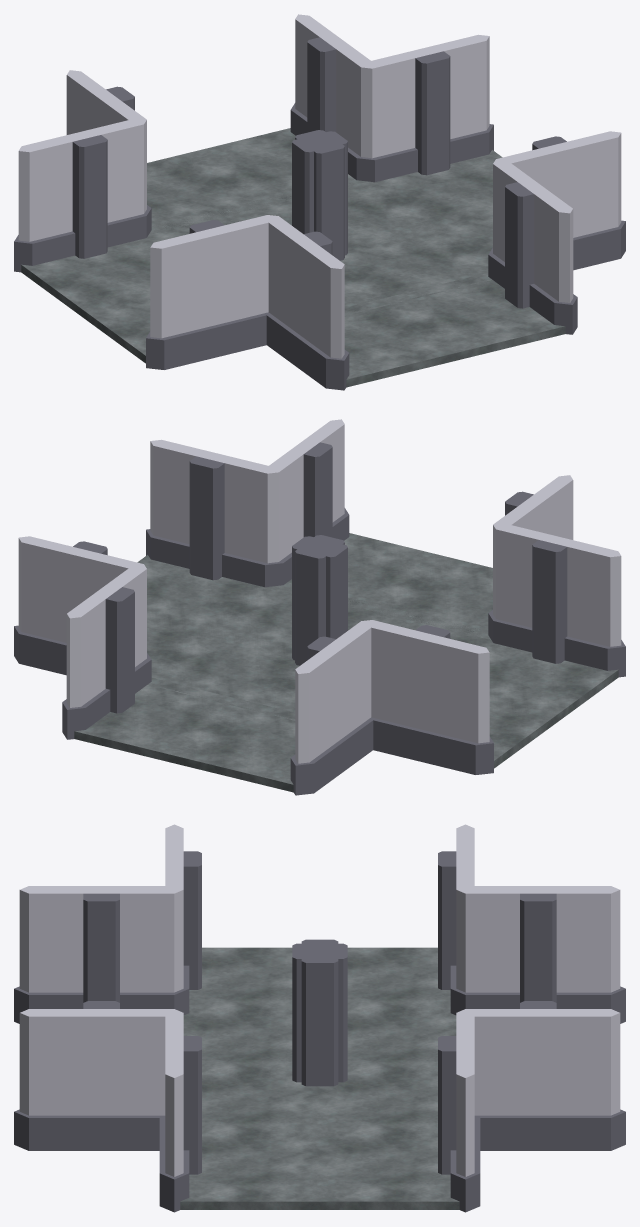
Rendered from intersection_4way_02.fbx.
3 renders of one model, top to bottom at view 1: azimuth 30°, elevation 25°; view 2: azimuth 150°, elevation 25°; view 3: azimuth 270°, elevation 25°, orthographic. The views are drawn at different scales.
Parts seen in each view (by area): view 1: wall_02_89, wall_02_85, wall_02_88, floor_04_82, floor_01_73, wall_02_87, wall_02_91, floor_04_80, wall_02_84, floor_04_81, wall_02_90, floor_04_79 (+2 smaller); view 2: wall_02_85, wall_02_84, wall_02_88, floor_04_80, floor_01_73, wall_02_86, wall_02_90, floor_04_82, wall_02_89, floor_04_81, wall_02_91, floor_04_79 (+2 smaller); view 3: floor_01_73, wall_02_90, wall_02_91, wall_02_86, wall_02_87, floor_04_79, floor_04_81, pillar_03_93, wall_02_89, wall_02_84, wall_02_85, wall_02_88.
Part boxes in pixels (bbox=[...]): wall_02_89: bbox=[356, 34, 493, 182]; wall_02_85: bbox=[146, 215, 278, 369]; wall_02_88: bbox=[14, 118, 150, 272]; floor_04_82: bbox=[344, 273, 565, 387]; floor_01_73: bbox=[140, 177, 491, 315]; wall_02_87: bbox=[264, 215, 349, 390]; wall_02_91: bbox=[488, 159, 577, 334]; floor_04_80: bbox=[147, 128, 364, 234]; wall_02_84: bbox=[489, 131, 625, 270]; floor_04_81: bbox=[21, 240, 150, 363]; wall_02_90: bbox=[290, 14, 376, 179]; floor_04_79: bbox=[364, 150, 502, 271]; wall_02_85: bbox=[488, 523, 625, 677]; wall_02_84: bbox=[146, 439, 283, 587]; wall_02_88: bbox=[363, 620, 493, 774]; floor_04_80: bbox=[74, 678, 295, 792]; floor_01_73: bbox=[148, 582, 499, 720]; wall_02_86: bbox=[290, 620, 375, 795]; wall_02_90: bbox=[62, 564, 151, 739]; floor_04_82: bbox=[276, 533, 492, 639]; wall_02_89: bbox=[14, 536, 150, 675]; floor_04_81: bbox=[489, 645, 618, 768]; wall_02_91: bbox=[264, 419, 349, 584]; floor_04_79: bbox=[137, 555, 275, 676]; floor_01_73: bbox=[183, 1009, 456, 1139]; wall_02_90: bbox=[457, 1001, 625, 1150]; wall_02_91: bbox=[14, 1001, 183, 1150]; wall_02_86: bbox=[450, 886, 625, 1023]; wall_02_87: bbox=[14, 886, 188, 1023]; floor_04_79: bbox=[180, 1132, 459, 1209]; floor_04_81: bbox=[184, 947, 455, 1016]; pillar_03_93: bbox=[292, 939, 347, 1086]; wall_02_89: bbox=[438, 1009, 480, 1212]; wall_02_84: bbox=[159, 1009, 201, 1212]; wall_02_85: bbox=[165, 824, 201, 1015]; wall_02_88: bbox=[438, 824, 474, 994].
Size of the model in its own units: 42.05 by 10 by 42.05.
